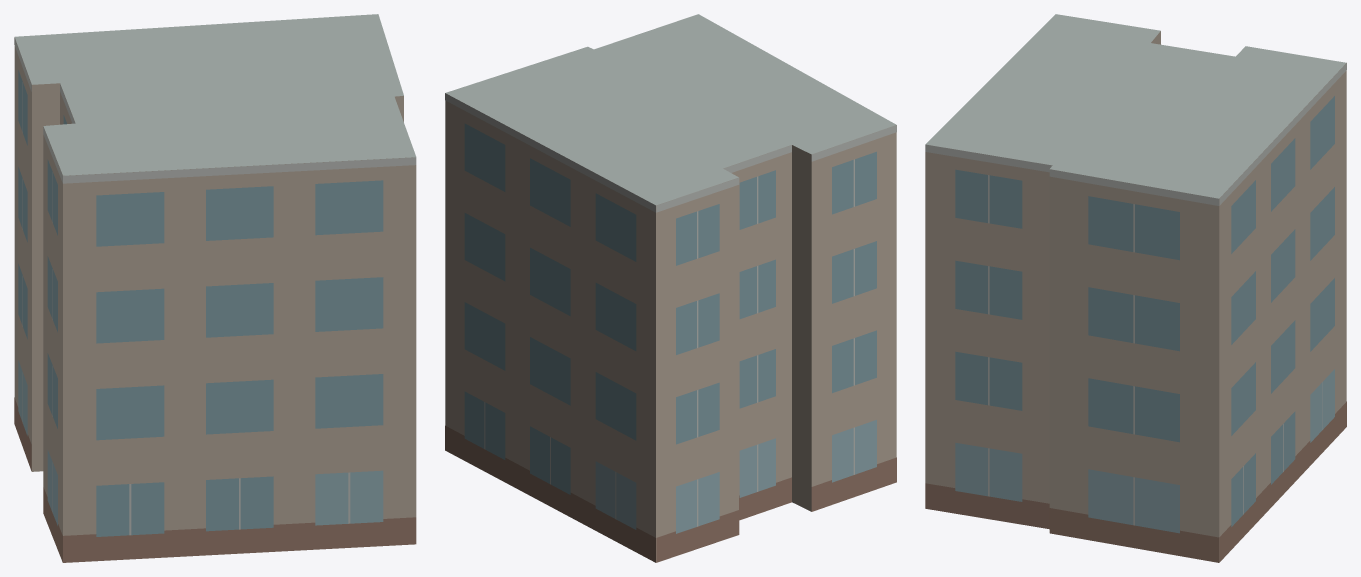
Rendered from survey-upis-32535815.glb.
3 renders of one model, left to right at view 1: azimuth 30°, elevation 25°; view 2: azimuth 150°, elevation 25°; view 3: azimuth 270°, elevation 25°, orthographic. The views are drawn at different scales.
Parts seen in each view (by area): view 1: survey-upis-32535815.tmp; view 2: survey-upis-32535815.tmp; view 3: survey-upis-32535815.tmp.
Part boxes in pixels (x1,y1,x2,y2): survey-upis-32535815.tmp: (14, 14, 416, 562); survey-upis-32535815.tmp: (445, 14, 896, 562); survey-upis-32535815.tmp: (925, 14, 1346, 562).
Size of the model in its own units: 13.01 by 11.95 by 12.54.
